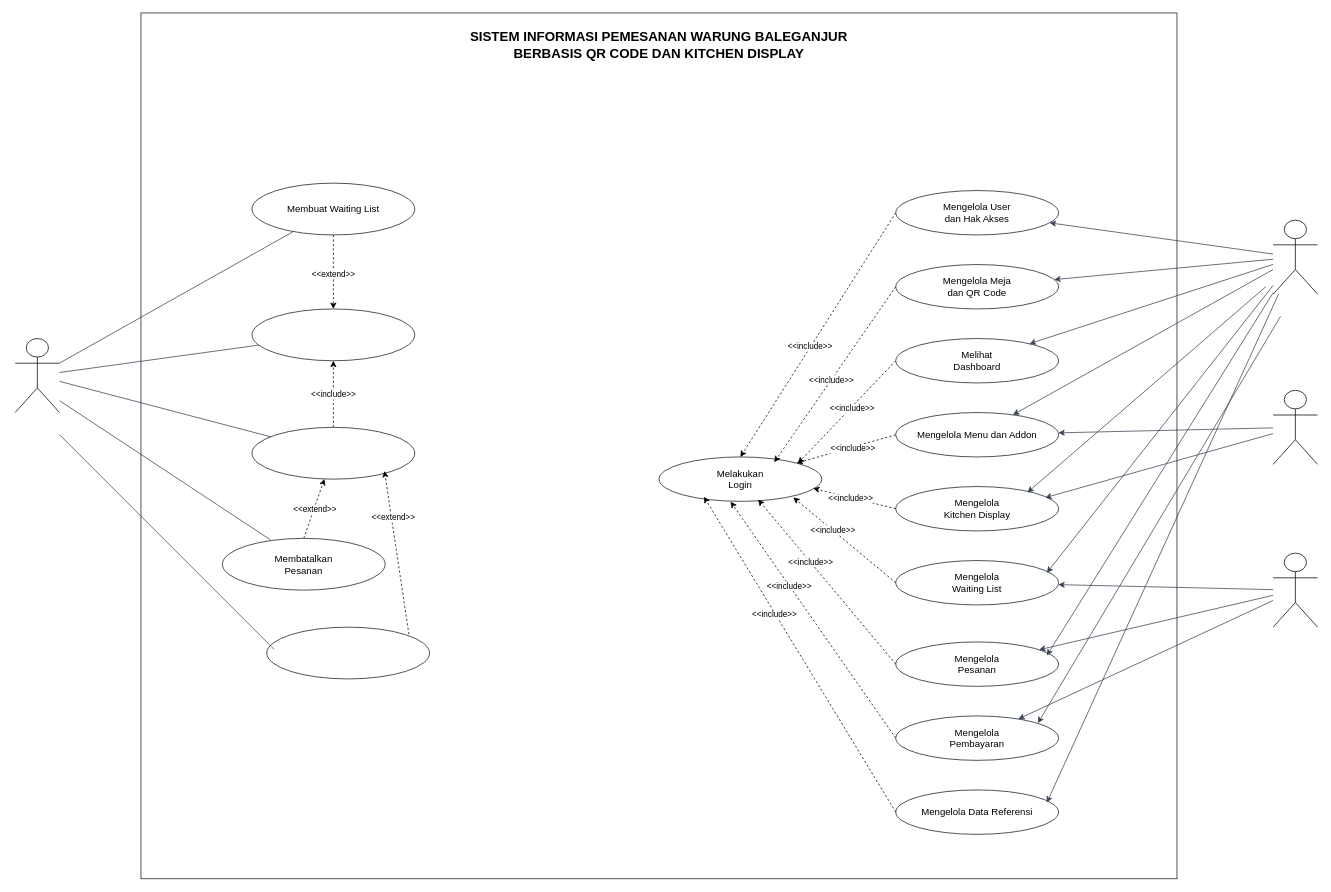
This 1331x892 diagram has some shape labels left out. Here are the shapes that lost their labels. From the top down, the centre of each, then its label:
At point (1295, 256): "Admin".
At point (333, 334): "Melakukan Pemesanan Melalui QR Meja".
At point (37, 375): "Pelanggan".
At point (1295, 427): "Koki".
At point (333, 453): "Melihat Status Pesanan".
At point (1295, 589): "Kasir".
At point (348, 652): "Mengubah Pesanan".
